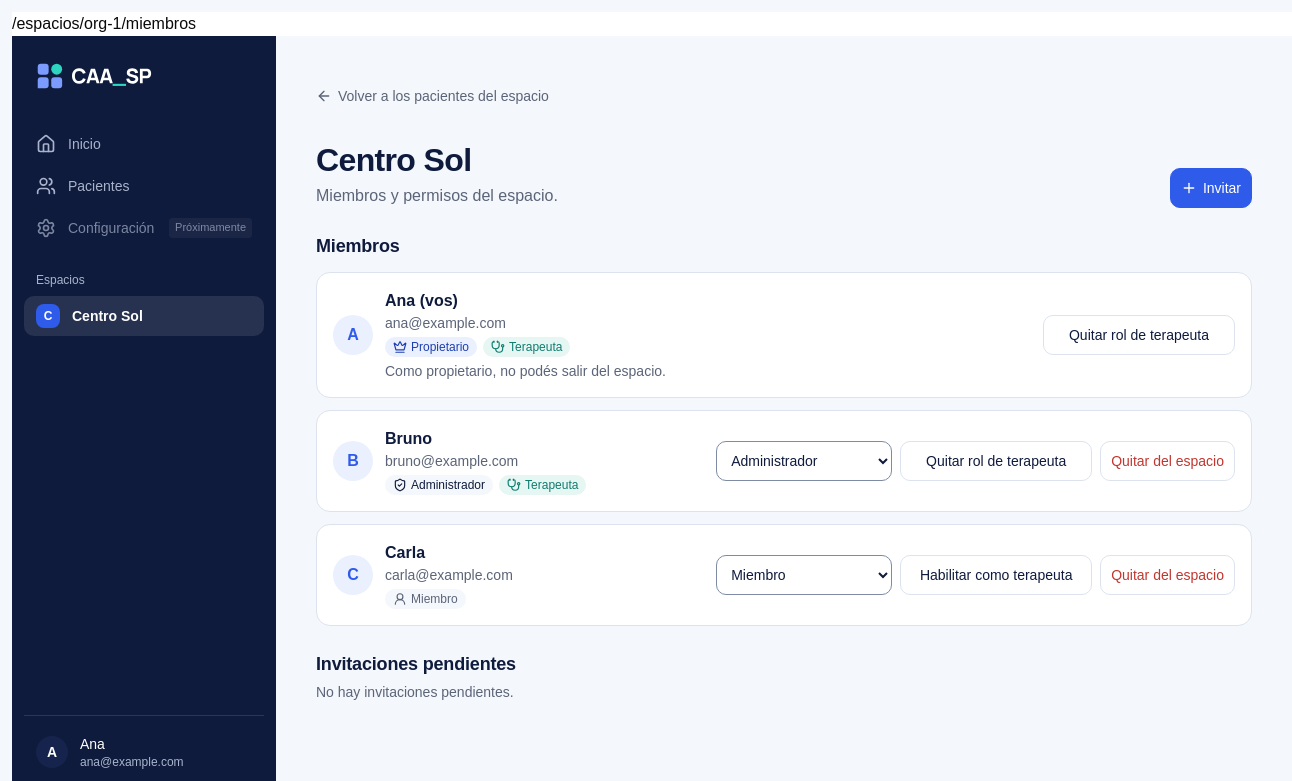
Test: OrganizationMembersPage › a refusal because the membership is gone ends on the no-access state
Select "Administrador" in the dropdown named "Rol de gestión de Carla" in the row of "carla@example.com": (804, 575) [716,555,892,595]
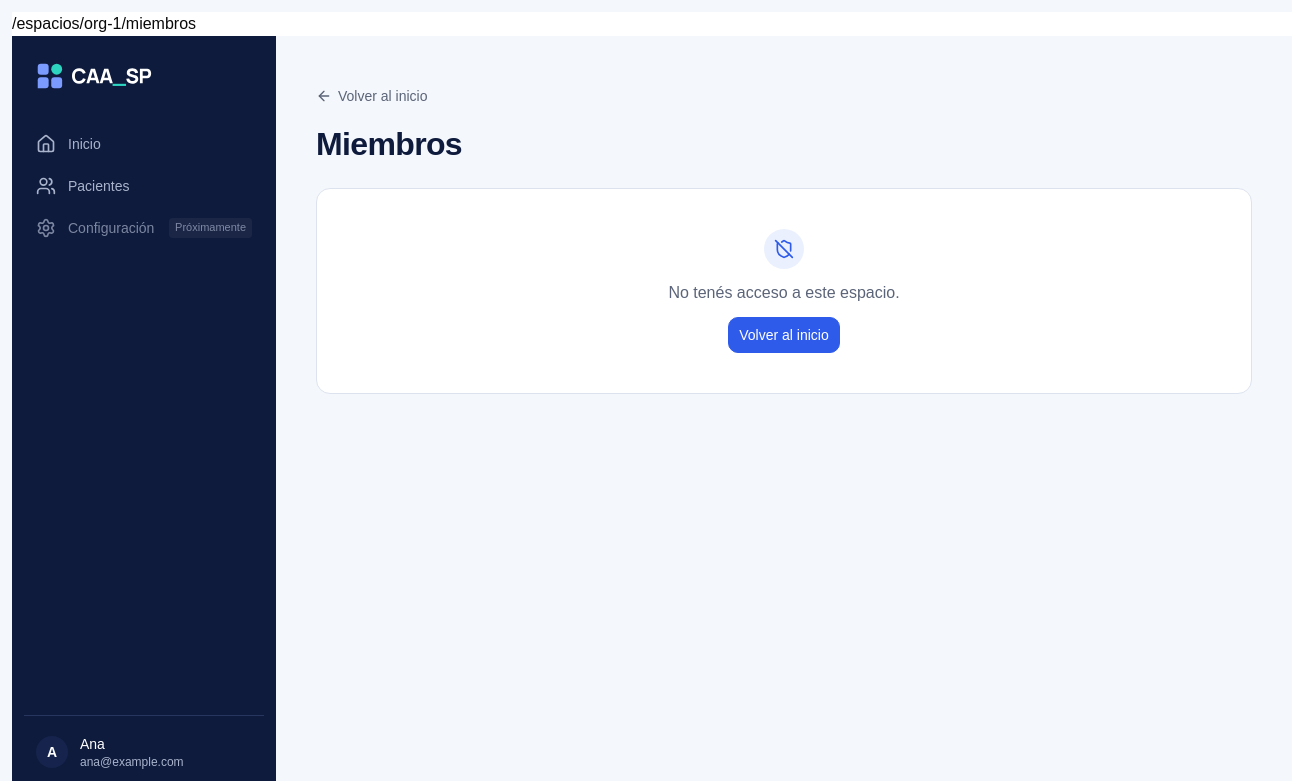
Result: the text "No tenés acceso a este espacio." is shown at [668,281,900,305]
